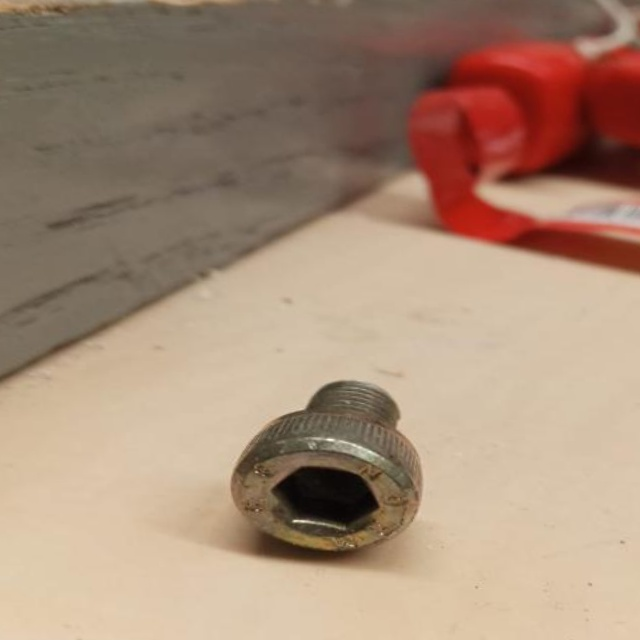allen: (229, 440, 420, 559)
